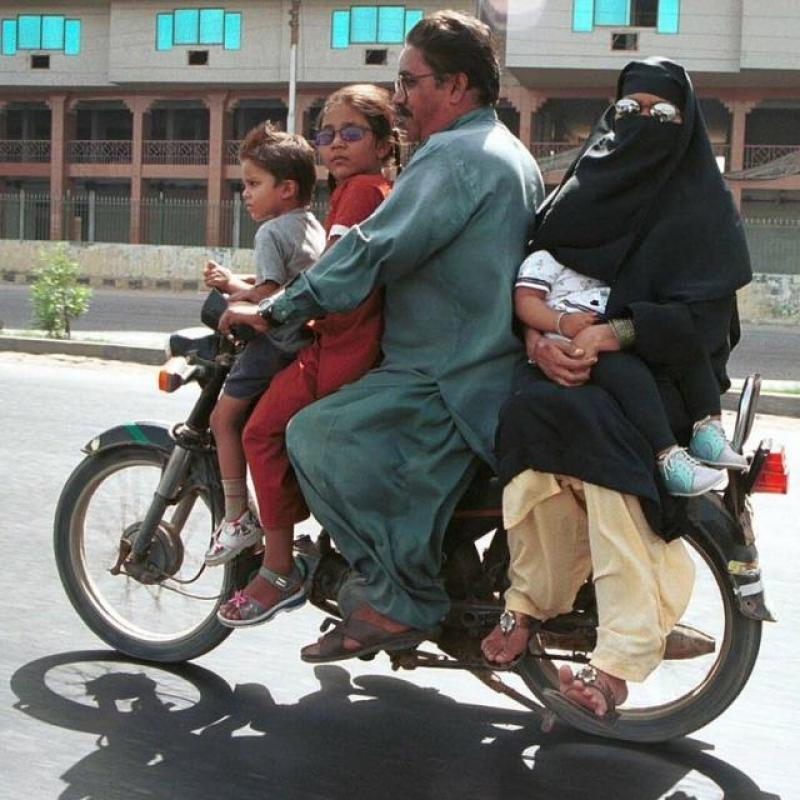nohelmet: (381, 7, 514, 144), (590, 42, 720, 159)
